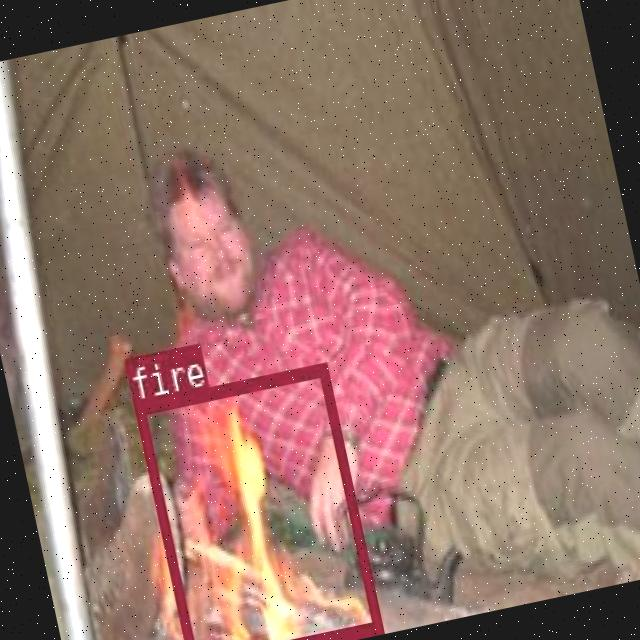fire: (133, 361, 380, 640)
